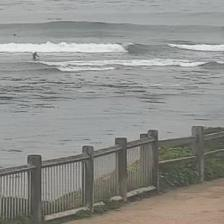surfer: (32, 52, 38, 60), (13, 34, 20, 37)
